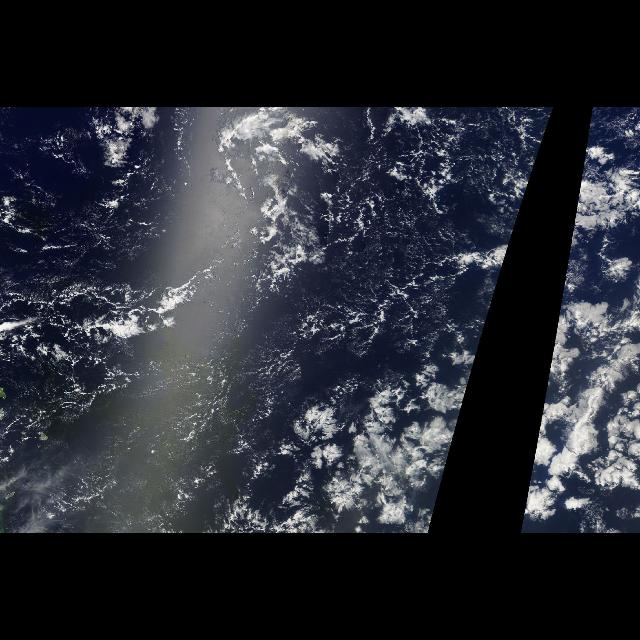Fish: (294, 367, 470, 533)
Flower: (267, 150, 539, 530), (517, 150, 639, 530)
Gravel: (0, 186, 232, 434)
Sugar: (0, 355, 286, 533)
